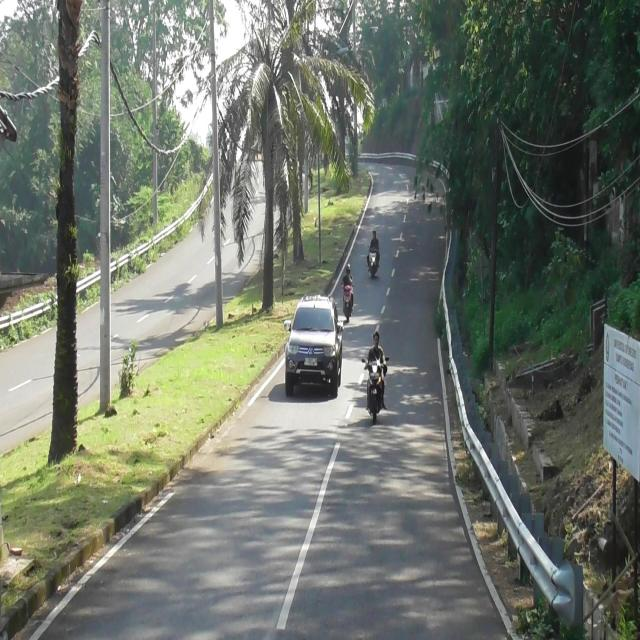motorcycle: (362, 355, 389, 420), (341, 283, 354, 320), (368, 243, 378, 276)
person: (364, 331, 387, 369), (340, 263, 354, 292), (370, 230, 380, 262)
rider_region: (362, 331, 389, 423), (341, 262, 355, 321), (367, 230, 380, 278)
